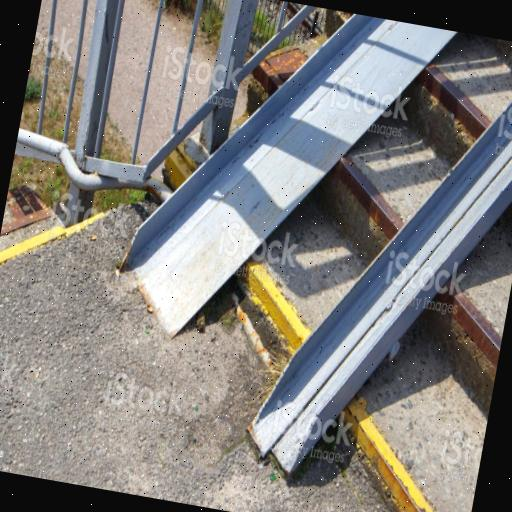ramp: (90, 0, 512, 507)
stairs: (319, 175, 512, 512)
